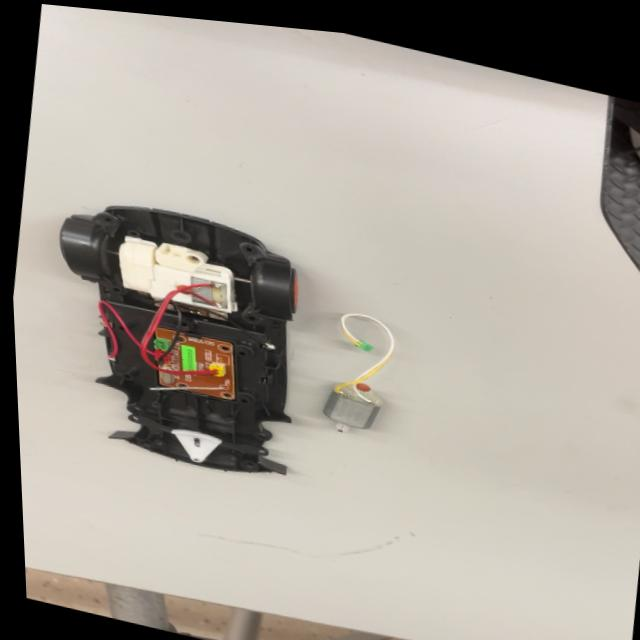Chassis: (26, 184, 325, 494)
motor: (313, 307, 404, 450)
